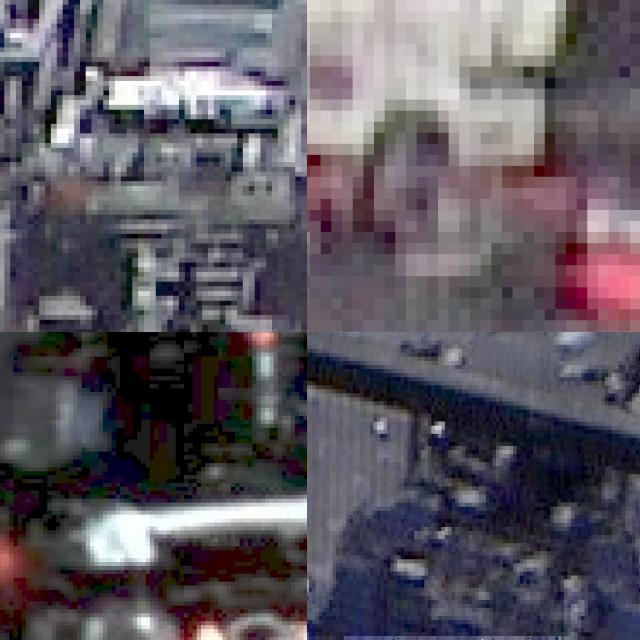Rs: (201, 621, 307, 640)
